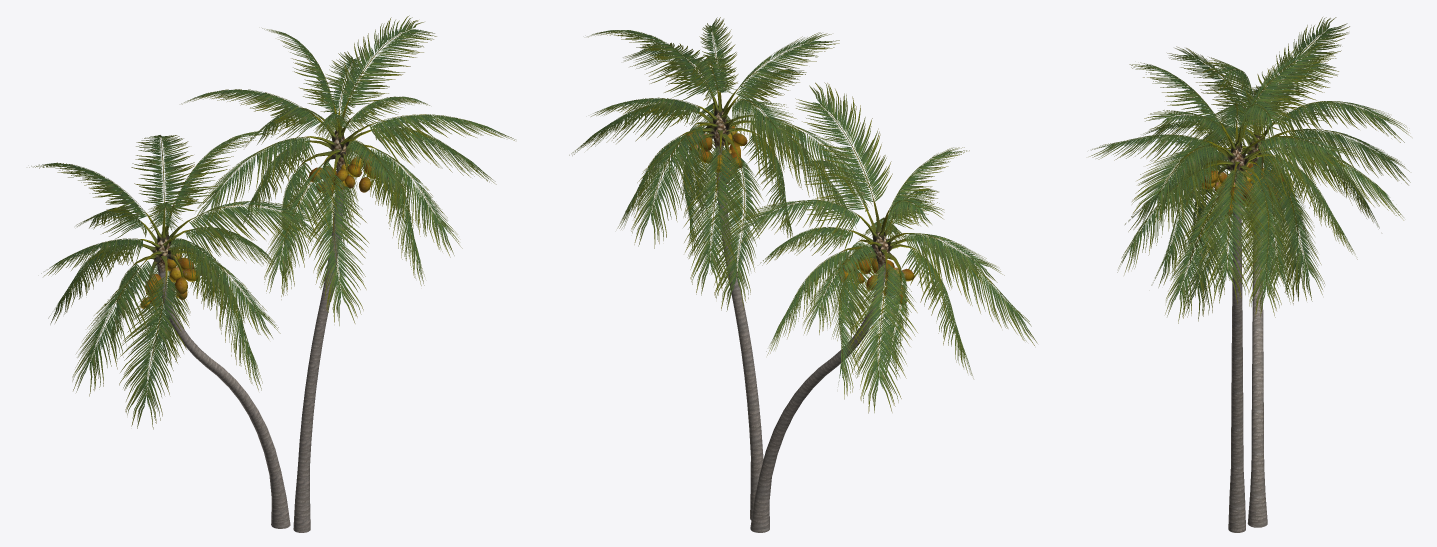
The model's file is coconut_palm.glb.
3 views of the same model, side by side, from view 1: azimuth 30°, elevation 25°; view 2: azimuth 150°, elevation 25°; view 3: azimuth 270°, elevation 25° (orthographic). The views are drawn at different scales.
Visible parts, largest first — view 1: Tree_2, Tree_0, Tree_3, Tree_4; view 2: Tree_2, Tree_0, Tree_3, Tree_4, Tree_1; view 3: Tree_2, Tree_0, Tree_3, Tree_4.
Part boxes in pixels (bbox=[...]): Tree_2: bbox=[29, 15, 515, 429]; Tree_0: bbox=[158, 170, 343, 532]; Tree_3: bbox=[132, 98, 378, 295]; Tree_4: bbox=[140, 154, 375, 308]; Tree_2: bbox=[569, 17, 1037, 413]; Tree_0: bbox=[716, 152, 885, 532]; Tree_3: bbox=[679, 82, 917, 291]; Tree_4: bbox=[685, 126, 914, 304]; Tree_1: bbox=[712, 112, 888, 269]; Tree_2: bbox=[1089, 17, 1410, 323]; Tree_0: bbox=[1228, 201, 1267, 532]; Tree_3: bbox=[1204, 112, 1296, 202]; Tree_4: bbox=[1202, 162, 1283, 217].
Size of the model in its own units: 6.3 by 6.28 by 4.02.
Materials: 5 (5 with a texture image).
